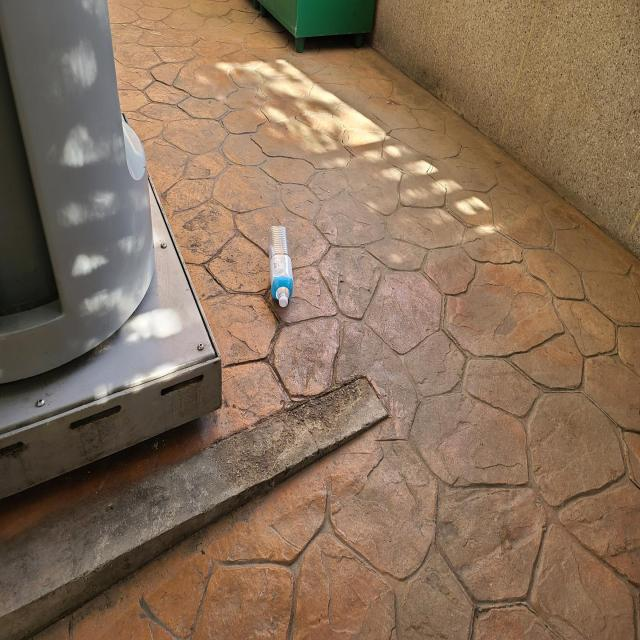plastic: (269, 225, 293, 307)
